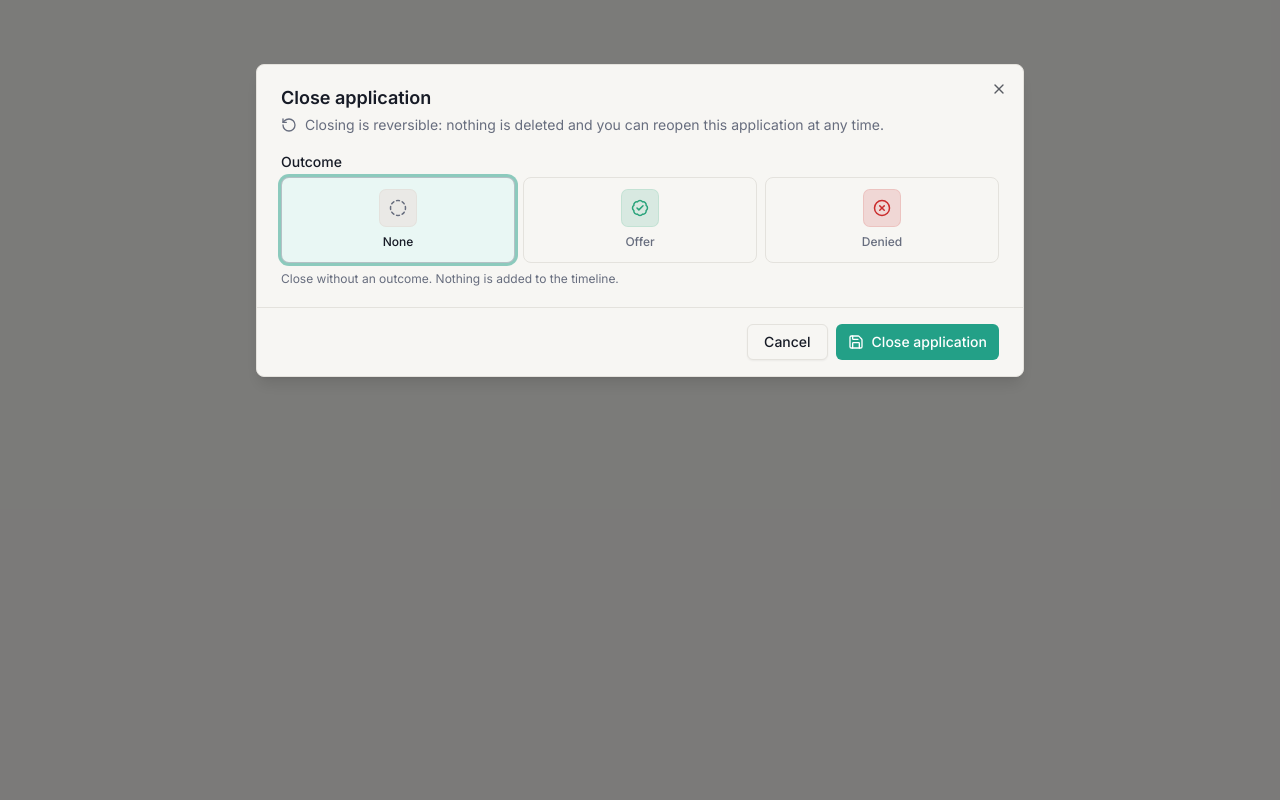
Scenario: TimelineEventForm close mode — outcome-gated fields › Denied reveals date + notes but no salary triad
What coordinates should you click on to do the following:
click the radio button labelled "Denied"
I would click on:
 (882, 220)
Its box is x1=765 y1=177 x2=999 y2=263.
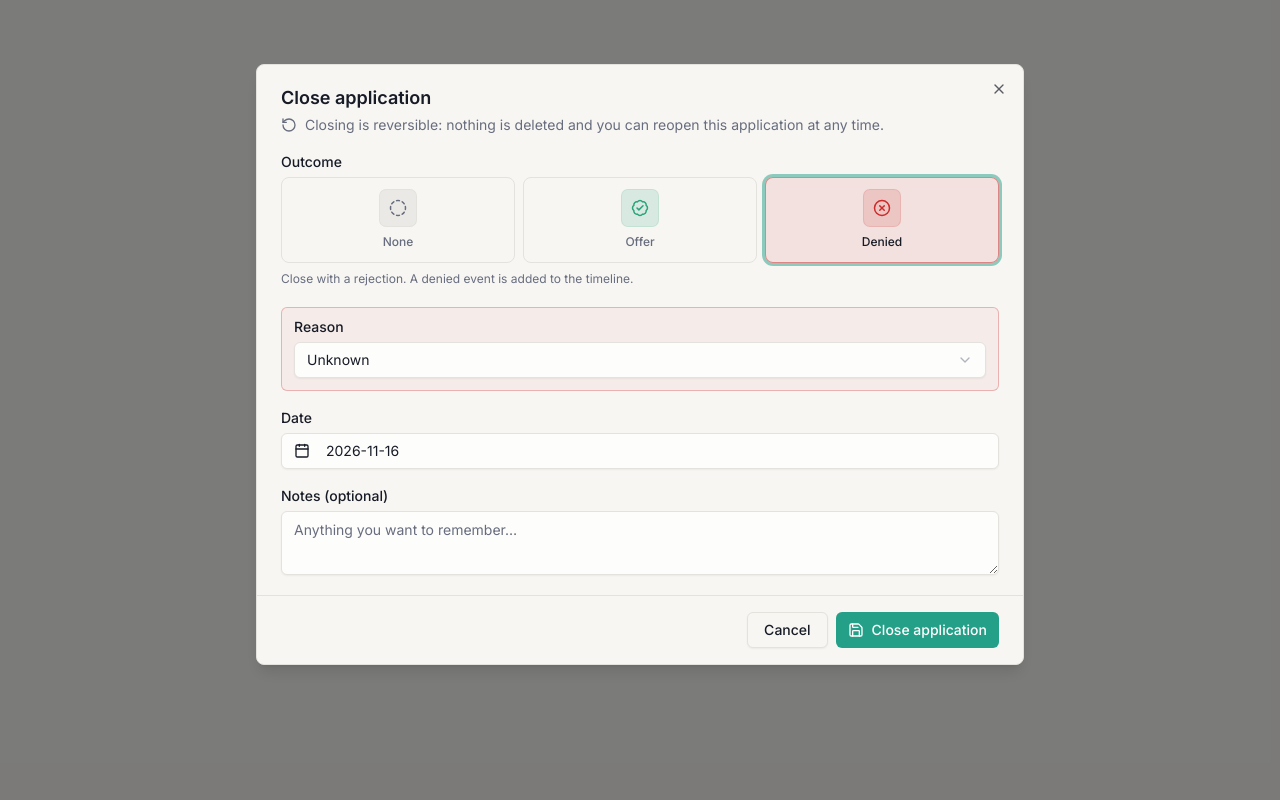
Result: the button named "Date" is shown at x1=281 y1=433 x2=999 y2=469
Result: the text box labelled "Notes (optional)" is shown at x1=281 y1=511 x2=999 y2=575
